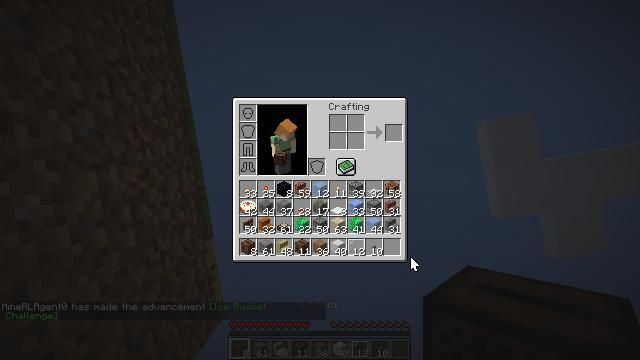cursor: (410, 256, 420, 272)
